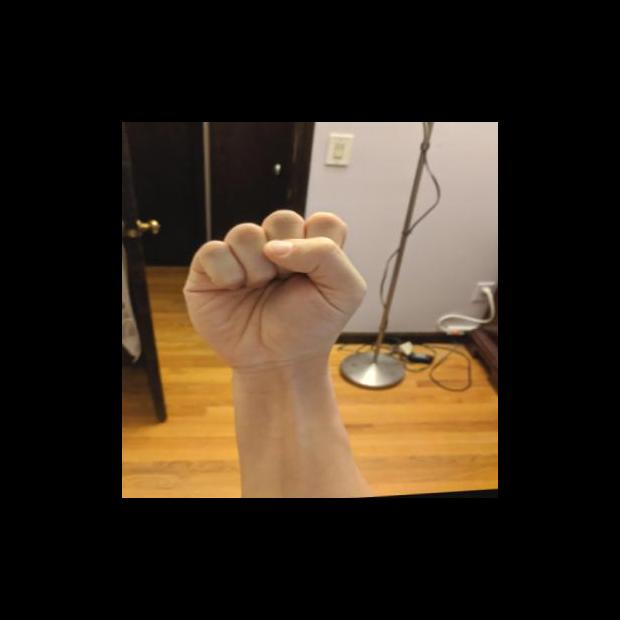R: (172, 202, 374, 375)
